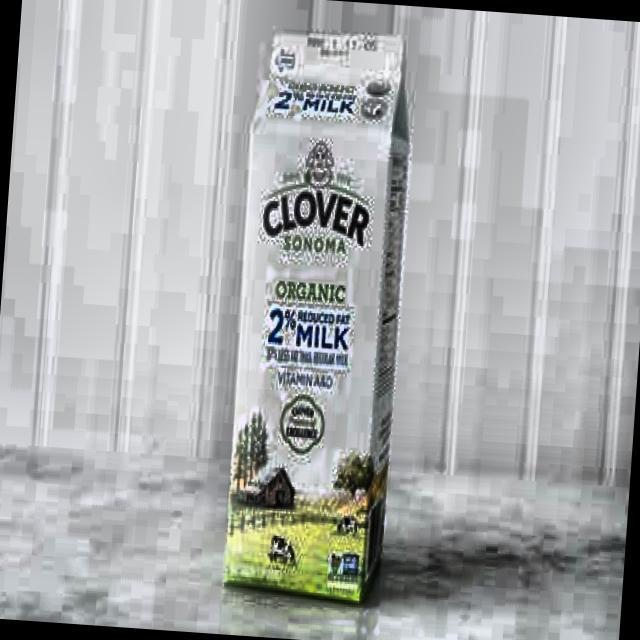cardboard: (216, 22, 420, 604)
